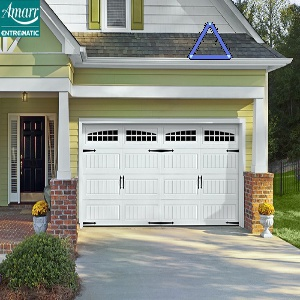triangle: (185, 19, 235, 62)
